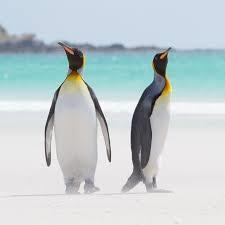king: (34, 33, 120, 208), (128, 42, 185, 197)
